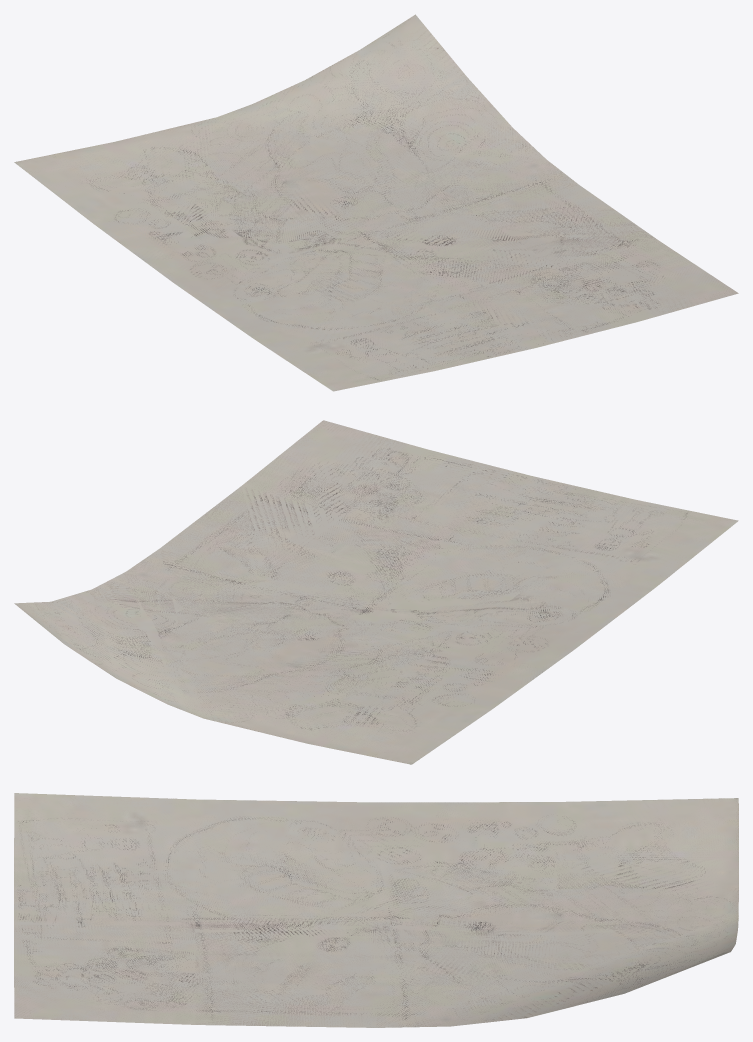
The model's file is sketches_amy01.dae.
3 views of the same model, one above another, from view 1: azimuth 30°, elevation 25°; view 2: azimuth 150°, elevation 25°; view 3: azimuth 270°, elevation 25° (orthographic). The views are drawn at different scales.
Parts seen in each view (by area): view 1: 01; view 2: 01; view 3: 01.
Boxes of the visible parts, left/top/right/bottom form: 01: left=14, top=14, right=738, bottom=391; 01: left=14, top=420, right=738, bottom=764; 01: left=14, top=793, right=738, bottom=1027.
Bounding box in the file's own units: 0.3849 × 0.0598 × 0.5251.
